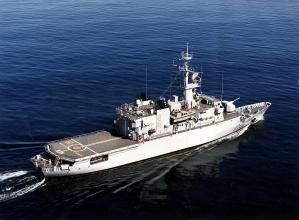warship: (17, 52, 271, 175)
